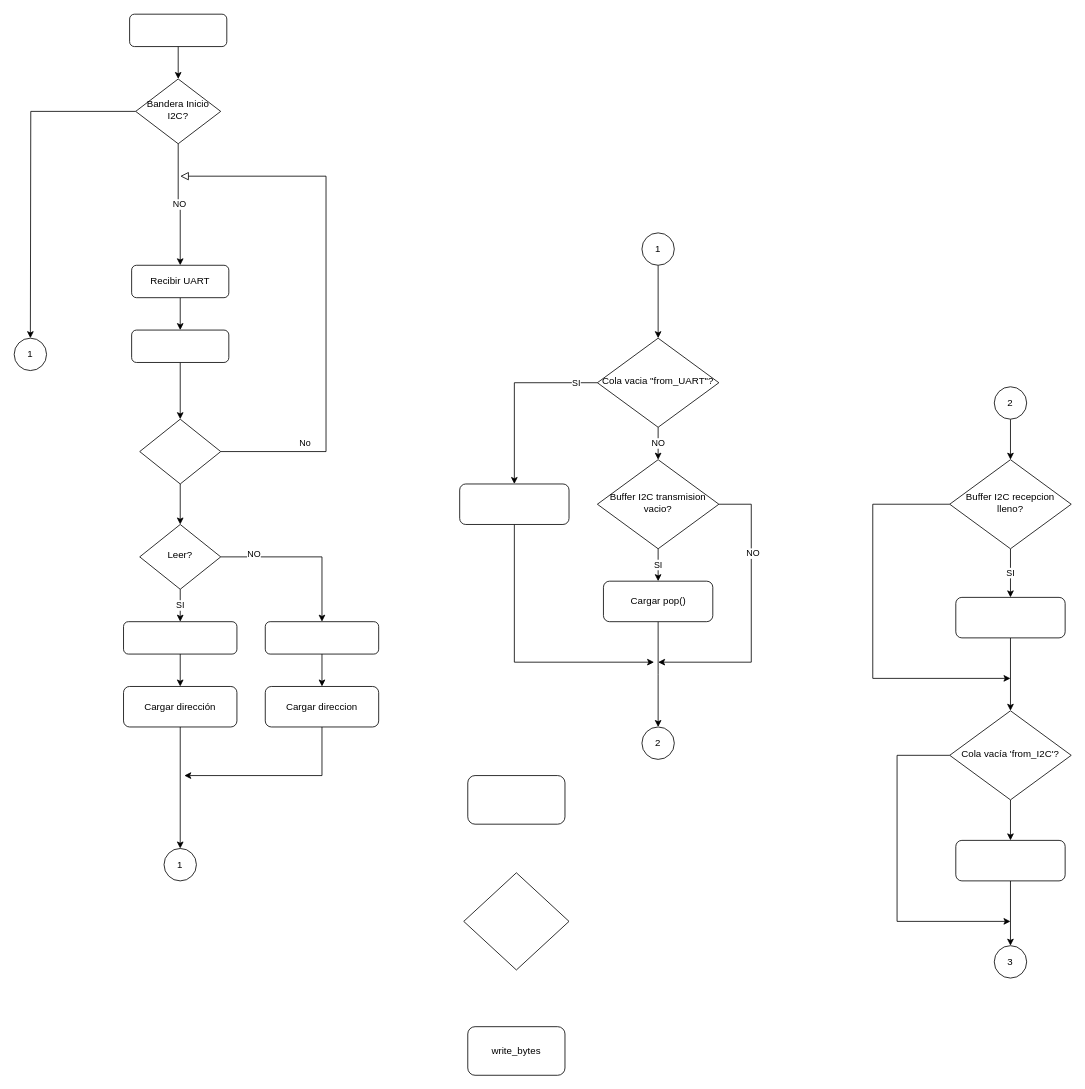
The diagram is 1085 pixels wide and 1089 high, and some of its shapes have lost their labels. The centre of each missing label's shape, as x and y in pixels:
"Bandera cola vacia - from UART" belongs at point 514,503.
"bytes_to_write >63" belongs at point 516,921.
"Carga dato para transmitir por UART" belongs at point 1010,860.
"Cargar parametros de escritura y Activar I2C" belongs at point 321,637.
"Cargar parametros de lectura y Activar I2C" belongs at point 180,637.
"Inicio" belongs at point 178,30.
"push(dato)" belongs at point 1010,617.
"Recibir parametros push(datos)" belongs at point 180,345.
"Termino de recibir?" belongs at point 180,451.
